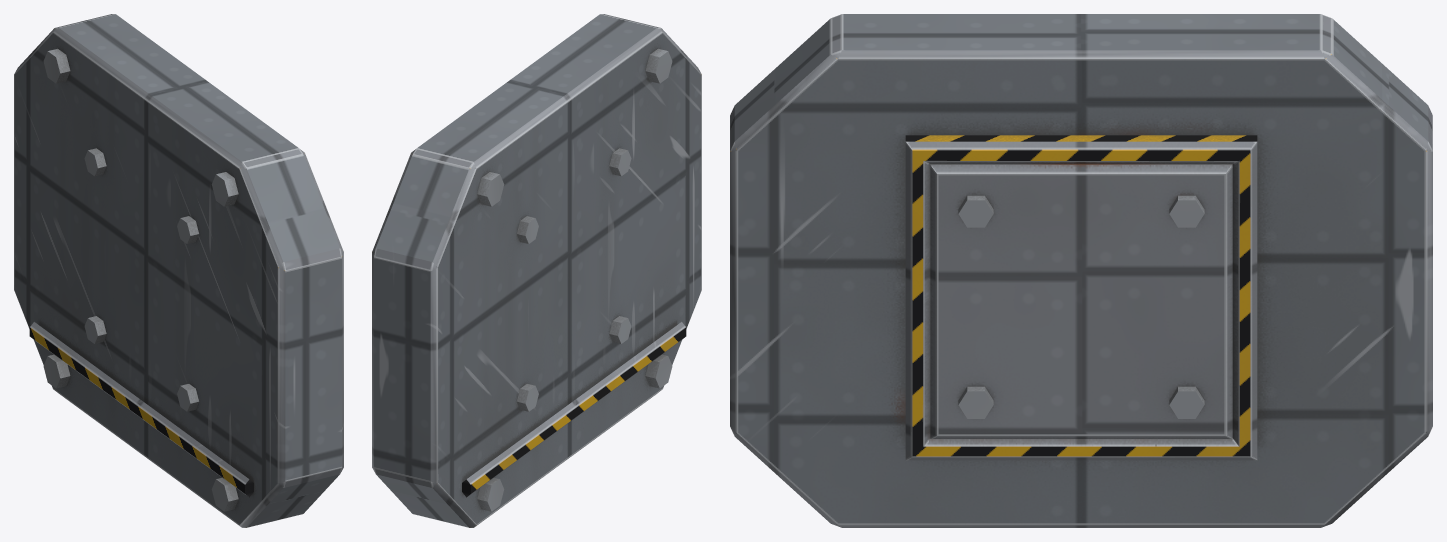
File: blindaje_extra_t1.fbx
3 renders of one model, left to right at view 1: azimuth 30°, elevation 25°; view 2: azimuth 150°, elevation 25°; view 3: azimuth 270°, elevation 25°, orthographic. The views are drawn at different scales.
Visible parts, largest first — view 1: blindaje_extra_t1; view 2: blindaje_extra_t1; view 3: blindaje_extra_t1.
Part boxes in pixels (left/top/right/bottom): blindaje_extra_t1: left=14, top=14, right=343, bottom=527; blindaje_extra_t1: left=372, top=14, right=701, bottom=527; blindaje_extra_t1: left=730, top=14, right=1432, bottom=527.
Size of the model in its own units: 0.71 by 2.4 by 3.2.
